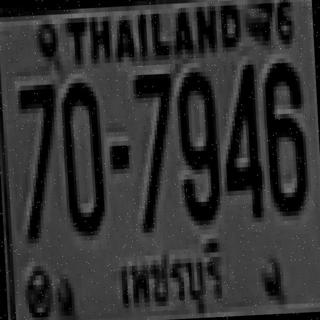N00: (59, 77, 104, 232)
N04: (218, 62, 261, 217)
N06: (261, 58, 306, 212)
N07: (15, 80, 60, 239), (132, 69, 176, 228)
N09: (174, 66, 220, 222)
P44: (115, 235, 222, 318)
